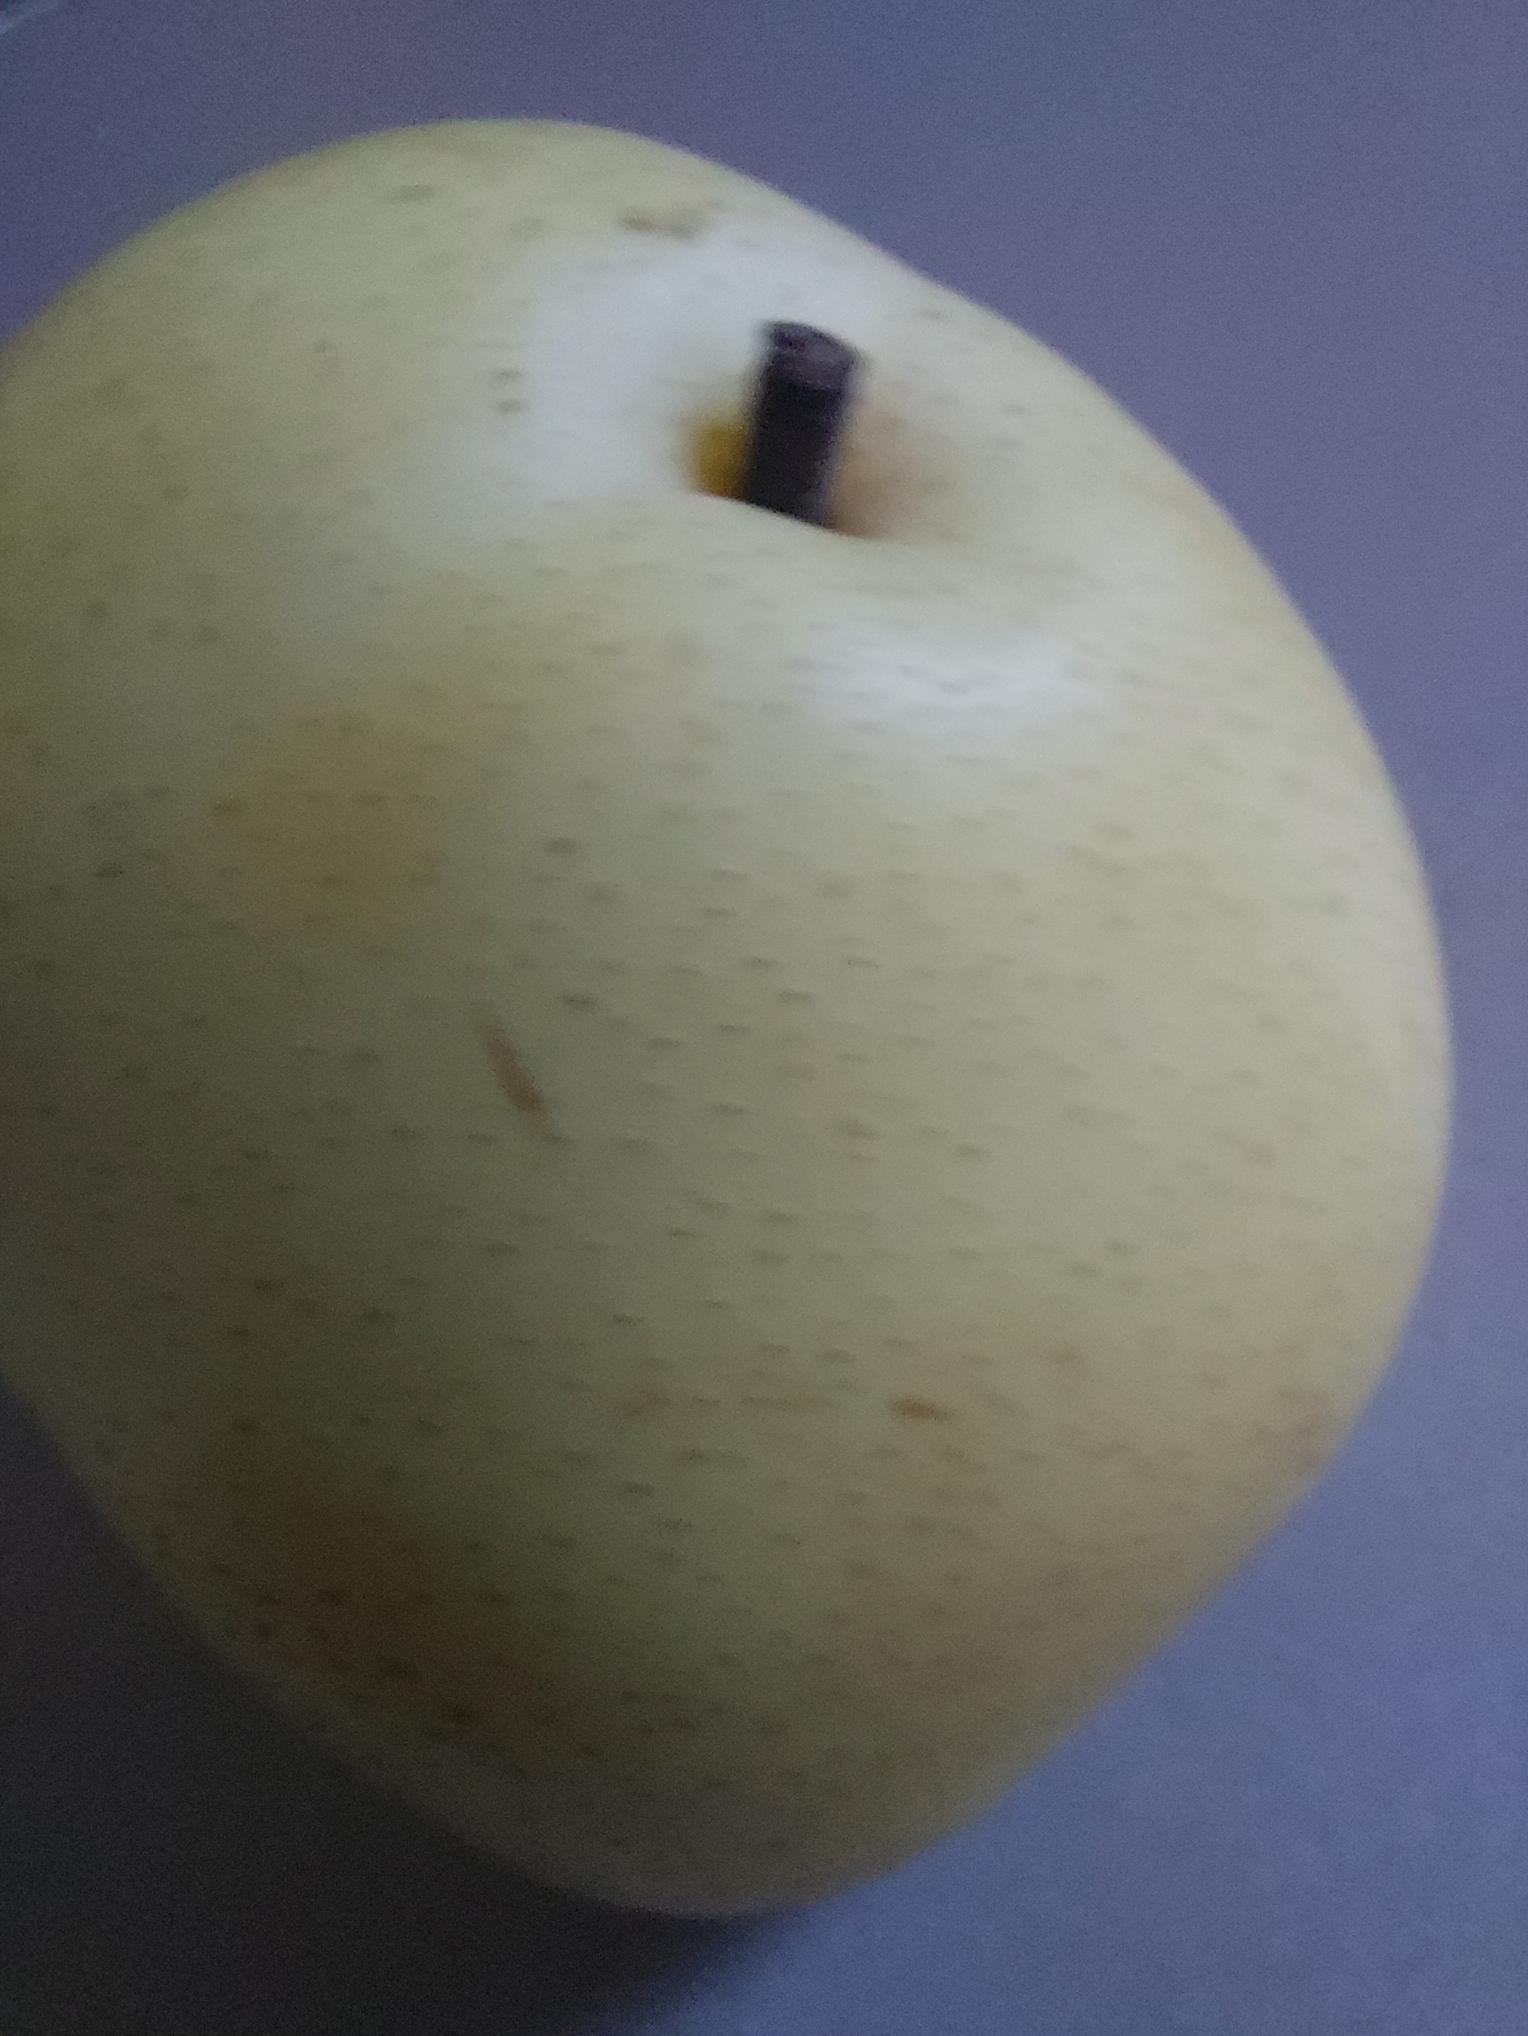Good Pear: (0, 120, 1465, 1920)
